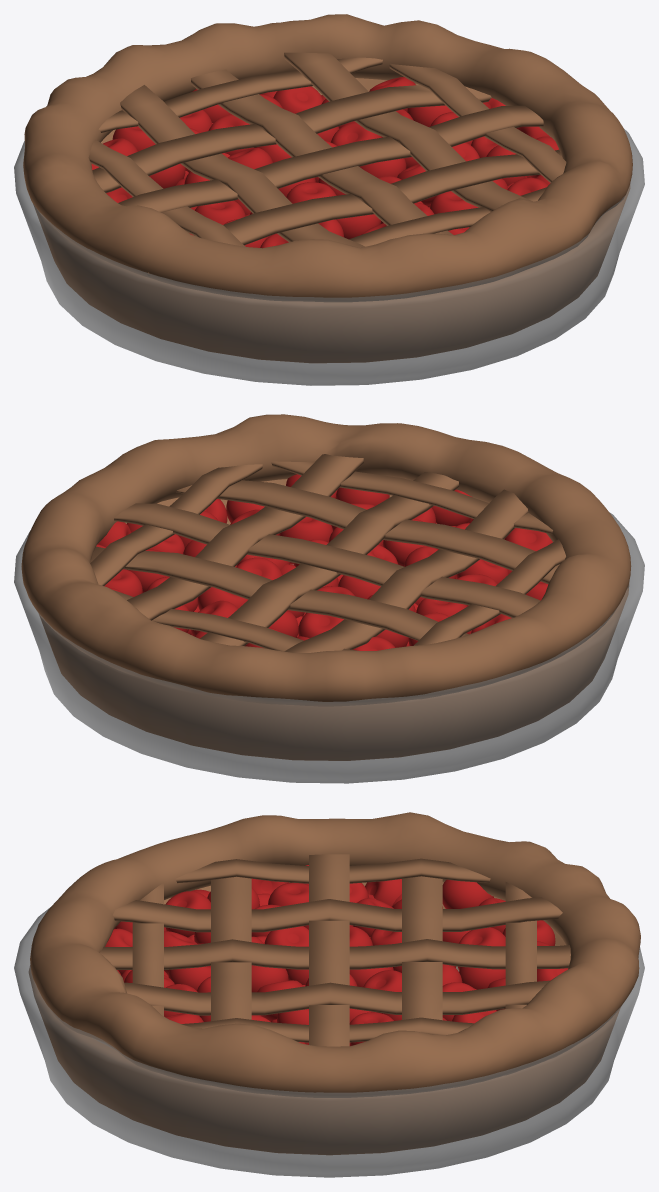
Rendered from pie.fbx.
3 views of the same model, one above another, from view 1: azimuth 30°, elevation 25°; view 2: azimuth 150°, elevation 25°; view 3: azimuth 270°, elevation 25° (orthographic).
Visible parts, largest first — view 1: TwistedTorus, Sphere, Sphere.001, Cube, Cube.001, Cube.002, Cube.009, Cube.008, Cube.007, Cube.005, Cube.004, Cube.006 (+12 smaller); view 2: TwistedTorus, Sphere, Sphere.001, Cube, Cube.002, Cube.001, Cube.009, Cube.008, Cube.007, Cube.005, Cube.003, Cube.006 (+12 smaller); view 3: TwistedTorus, Sphere, Sphere.001, Cube.009, Cube.007, Cube.008, Cube, Cube.002, Cube.001, Cube.006, Cube.005, Cube.004 (+11 smaller).
Part boxes in pixels (bbox=[...]): TwistedTorus: bbox=[23, 14, 632, 302]; Sphere: bbox=[14, 129, 644, 385]; Sphere.001: bbox=[33, 78, 630, 363]; Cube: bbox=[118, 105, 543, 212]; Cube.001: bbox=[92, 85, 491, 192]; Cube.002: bbox=[147, 149, 562, 276]; Cube.009: bbox=[191, 69, 453, 235]; Cube.008: bbox=[284, 52, 532, 211]; Cube.007: bbox=[120, 85, 364, 247]; Cube.005: bbox=[389, 63, 566, 182]; Cube.004: bbox=[98, 57, 382, 132]; Cube.006: bbox=[88, 139, 245, 246]; TwistedTorus: bbox=[21, 414, 631, 706]; Sphere: bbox=[14, 512, 644, 783]; Sphere.001: bbox=[39, 479, 629, 760]; Cube: bbox=[114, 503, 540, 617]; Cube.002: bbox=[176, 480, 628, 588]; Cube.001: bbox=[90, 546, 468, 640]; Cube.009: bbox=[200, 472, 459, 645]; Cube.008: bbox=[127, 454, 363, 620]; Cube.007: bbox=[284, 489, 528, 652]; Cube.005: bbox=[90, 464, 262, 585]; Cube.003: bbox=[270, 461, 552, 534]; Cube.006: bbox=[413, 539, 565, 645]; TwistedTorus: bbox=[30, 812, 640, 1097]; Sphere: bbox=[14, 908, 644, 1177]; Sphere.001: bbox=[28, 882, 620, 1155]; Cube.009: bbox=[100, 939, 570, 969]; Cube.007: bbox=[113, 897, 562, 932]; Cube.008: bbox=[124, 980, 549, 1015]; Cube: bbox=[309, 854, 349, 1046]; Cube.002: bbox=[211, 876, 251, 1021]; Cube.001: bbox=[402, 876, 442, 1020]; Cube.006: bbox=[175, 858, 490, 883]; Cube.005: bbox=[181, 1017, 473, 1042]; Cube.004: bbox=[505, 882, 536, 1008].
Bounding box in the file's own units: 1.01 × 0.2578 × 1.01.
